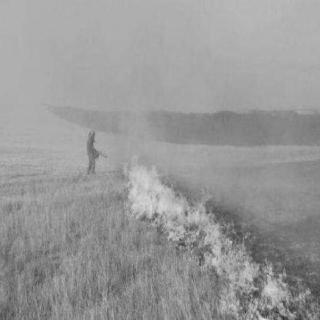other: (83, 126, 113, 176)
